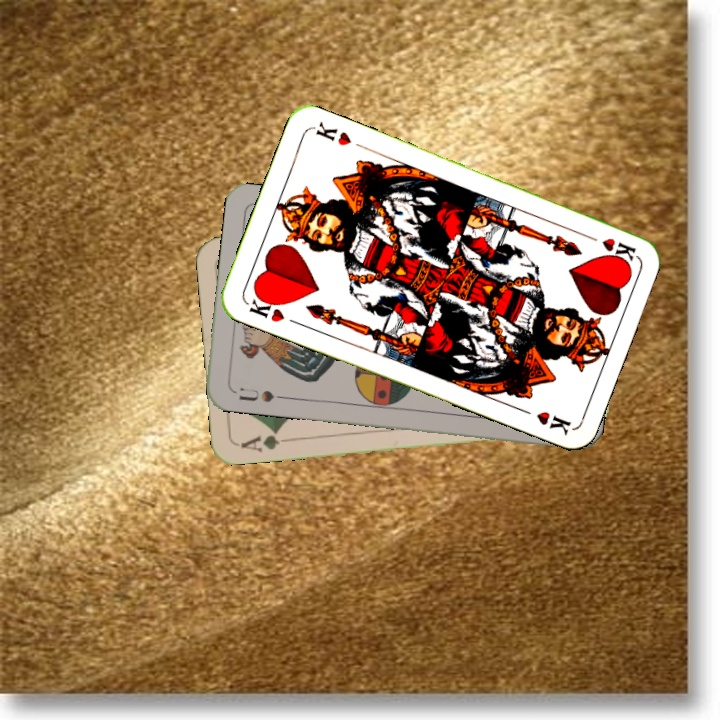GA: (236, 426, 294, 454)
HK: (243, 290, 300, 327), (581, 230, 639, 264)
SU: (235, 383, 288, 405)
